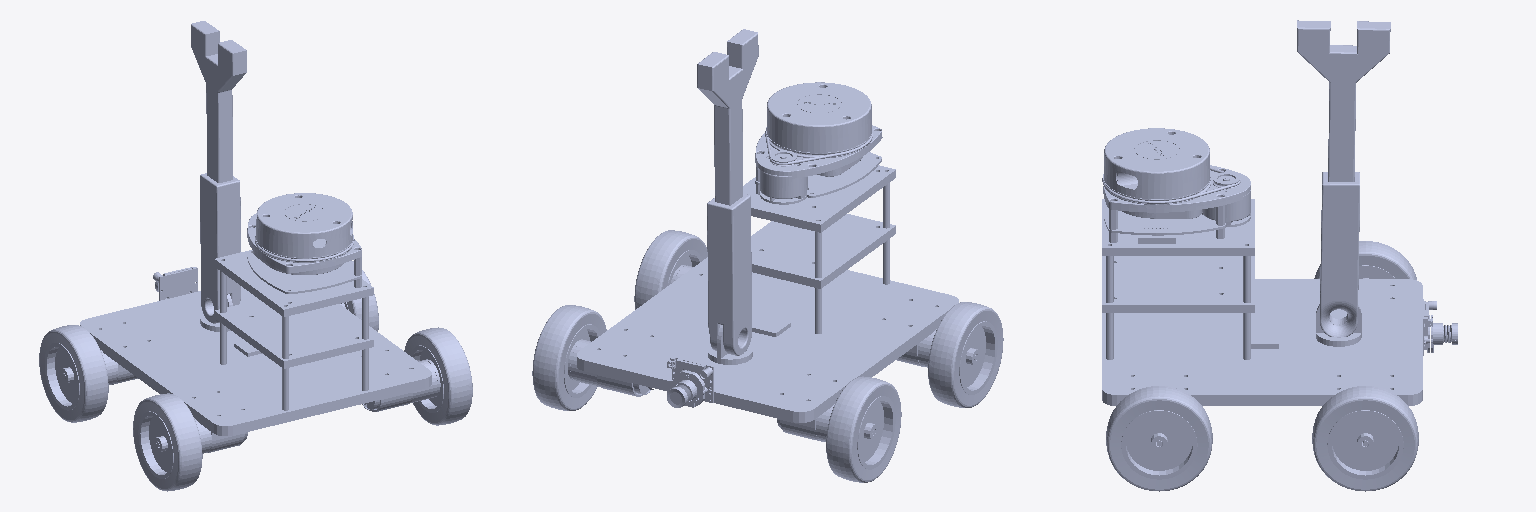
robot.urdf — xe_4:
<?xml version="1.0" encoding="utf-8"?>
<robot name="xe_4">
  <link name="base_link">
    <inertial>
      <origin xyz="0.0614732787260263 -0.163285290172582 0.139749667568583" rpy="0 0 0" />
      <mass value="0.525276609713374" />
      <inertia ixx="0.00118889424009473" ixy="-4.66163349173542E-07" ixz="-3.87633750168312E-10"
               iyy="0.000883705188266734" iyz="6.86269880388193E-09" izz="0.00205494454976402" />
    </inertial>
    <visual>
      <origin xyz="0 0 0" rpy="0 0 0" />
      <geometry>
        <mesh filename="package://xe_4/meshes/base_link.STL" />
      </geometry>
      <material name="">
        <color rgba="0.792156862745098 0.819607843137255 0.933333333333333 1" />
      </material>
    </visual>
    <collision>
      <origin xyz="0 0 0" rpy="0 0 0" />
      <geometry>
        <mesh filename="package://xe_4/meshes/base_link.STL" />
      </geometry>
    </collision>
  </link>

  <link name="front_right_link">
    <inertial>
      <origin xyz="1.38777878078145E-17 0.00800000000000001 1.38777878078145E-17" rpy="0 0 0" />
      <mass value="0.0537442846179065" />
      <inertia ixx="2.10387038973688E-05" ixy="3.5056171441999E-38" ixz="-1.15379320514335E-37"
               iyy="3.92583949923622E-05" iyz="3.33529490322889E-21" izz="2.10387038973688E-05" />
    </inertial>
    <visual>
      <origin xyz="0 0 0" rpy="0 0 0" />
      <geometry>
        <mesh filename="package://xe_4/meshes/front_right_link.STL" />
      </geometry>
      <material name="">
        <color rgba="0.792156862745098 0.819607843137255 0.933333333333333 1" />
      </material>
    </visual>
    <collision>
      <origin xyz="0 0 0" rpy="0 0 0" />
      <geometry>
        <mesh filename="package://xe_4/meshes/front_right_link.STL" />
      </geometry>
    </collision>
  </link>
  <joint name="front_right_joint" type="continuous">
    <origin xyz="0.18174 -0.086658 0.11603" rpy="0 0 1.5708" />
    <parent link="base_link" />
    <child link="front_right_link" />
    <axis xyz="0 1 0" />
  </joint>

  <link name="back_right_link">
    <inertial>
      <origin xyz="0 0.00799999999999998 1.38777878078145E-17" rpy="0 0 0" />
      <mass value="0.0537442846179064" />
      <inertia ixx="2.10387038973688E-05" ixy="3.50561714419991E-38" ixz="-1.15379320514336E-37"
               iyy="3.92583949923622E-05" iyz="2.91266075558846E-21" izz="2.10387038973688E-05" />
    </inertial>
    <visual>
      <origin xyz="0 0 0" rpy="0 0 0" />
      <geometry>
        <mesh filename="package://xe_4/meshes/back_right_link .STL" />
      </geometry>
      <material name="">
        <color rgba="0.792156862745098 0.819607843137255 0.933333333333333 1" />
      </material>
    </visual>
    <collision>
      <origin xyz="0 0 0" rpy="0 0 0" />
      <geometry>
        <mesh filename="package://xe_4/meshes/back_right_link .STL" />
      </geometry>
    </collision>
  </link>
  <joint name="back_right_joint" type="continuous">
    <origin xyz="0.18174 -0.22166 0.11603" rpy="0 0 1.5708" />
    <parent link="base_link" />
    <child link="back_right_link" />
    <axis xyz="0 1 0" />
  </joint>

  <link name="front_left_link">
    <inertial>
      <origin xyz="2.77555756156289E-17 -0.008 0" rpy="0 0 0" />
      <mass value="0.0537442846179065" />
      <inertia ixx="2.10387038973688E-05" ixy="3.5056171441999E-38" ixz="-1.15379320514335E-37"
               iyy="3.92583949923622E-05" iyz="3.05383291346418E-21" izz="2.10387038973688E-05" />
    </inertial>
    <visual>
      <origin xyz="0 0 0" rpy="0 0 0" />
      <geometry>
        <mesh filename="package://xe_4/meshes/front_left_link.STL" />
      </geometry>
      <material name="">
        <color rgba="0.792156862745098 0.819607843137255 0.933333333333333 1" />
      </material>
    </visual>
    <collision>
      <origin xyz="0 0 0" rpy="0 0 0" />
      <geometry>
        <mesh filename="package://xe_4/meshes/front_left_link.STL" />
      </geometry>
    </collision>
  </link>
  <joint name="front_left_joint" type="continuous">
    <origin xyz="-0.058665 -0.086658 0.11603" rpy="0 0 1.5708" />
    <parent link="base_link" />
    <child link="front_left_link" />
    <axis xyz="0 1 0" />
  </joint>

  <link name="back_left_link">
    <inertial>
      <origin xyz="-2.77555756156289E-17 -0.008 2.77555756156289E-17" rpy="0 0 0" />
      <mass value="0.0537442846179065" />
      <inertia ixx="2.10387038973689E-05" ixy="-1.55749413174486E-22" ixz="-1.0900813371481E-22"
               iyy="3.92583949923622E-05" iyz="2.4689561138458E-21" izz="2.10387038973689E-05" />
    </inertial>
    <visual>
      <origin xyz="0 0 0" rpy="0 0 0" />
      <geometry>
        <mesh filename="package://xe_4/meshes/back_left_link.STL" />
      </geometry>
      <material name="">
        <color rgba="0.792156862745098 0.819607843137255 0.933333333333333 1" />
      </material>
    </visual>
    <collision>
      <origin xyz="0 0 0" rpy="0 0 0" />
      <geometry>
        <mesh filename="package://xe_4/meshes/back_left_link.STL" />
      </geometry>
    </collision>
  </link>
  <joint name="back_left_joint" type="continuous">
    <origin xyz="-0.058665 -0.22166 0.11603" rpy="0 0 1.5708" />
    <parent link="base_link" />
    <child link="back_left_link" />
    <axis xyz="0 1 0" />
  </joint>

  <link name="link1_link">
    <inertial>
      <origin xyz="0.0420436004686703 1.47276565942711E-09 -0.00126903695496102" rpy="0 0 0" />
      <mass value="0.0367975504819107" />
      <inertia ixx="3.79192552675337E-06" ixy="1.3618516728618E-12" ixz="3.55472653343413E-07"
               iyy="3.44370026892355E-05" iyz="2.67902459355996E-13" izz="3.52474565119633E-05" />
    </inertial>
    <visual>
      <origin xyz="0 0 0" rpy="0 0 0" />
      <geometry>
        <mesh filename="package://xe_4/meshes/link1_link.STL" />
      </geometry>
      <material name="">
        <color rgba="0.792156862745098 0.819607843137255 0.933333333333333 1" />
      </material>
    </visual>
    <collision>
      <origin xyz="0 0 0" rpy="0 0 0" />
      <geometry>
        <mesh filename="package://xe_4/meshes/link1_link.STL" />
      </geometry>
    </collision>
  </link>
  <joint name="link1_joint" type="revolute">
    <origin xyz="0.060035 -0.10416 0.15203" rpy="-1.5708 -1.555 1.5708" />
    <parent link="base_link" />
    <child link="link1_link" />
    <axis xyz="0 0 1" />
    <limit lower="-1.57" upper="1.3" effort="10" velocity="1.0" />
  </joint>

  <link name="link2_link">
    <inertial>
      <origin xyz="3.44931007367766E-09 -1.6680382700085E-09 0.125171170915148" rpy="0 0 0" />
      <mass value="0.0371241111703062" />
      <inertia ixx="4.45845445622506E-05" ixy="-1.11743696058705E-11" ixz="-2.88407238070524E-12"
               iyy="5.03537247762182E-05" iyz="1.76957128561628E-12" izz="6.72867103735116E-06" />
    </inertial>
    <visual>
      <origin xyz="0 0 0" rpy="0 0 0" />
      <geometry>
        <mesh filename="package://xe_4/meshes/link2_link.STL" />
      </geometry>
      <material name="">
        <color rgba="0.792156862745098 0.819607843137255 0.933333333333333 1" />
      </material>
    </visual>
    <collision>
      <origin xyz="0 0 0" rpy="0 0 0" />
      <geometry>
        <mesh filename="package://xe_4/meshes/link2_link.STL" />
      </geometry>
    </collision>
  </link>
  <joint name="link2_joint" type="prismatic">
    <origin xyz="0.04 0 -0.0015" rpy="1.5708 0 1.5708" />
    <parent link="link1_link" />
    <child link="link2_link" />
    <axis xyz="0 0 1" />
    <limit lower="-0.06" upper="0" effort="10" velocity="0.1" />
  </joint>

  <link name="imu_link">
    <inertial>
      <origin xyz="0.000525532368486153 -0.00277473645934152 0.00149999999999945" rpy="0 0 0" />
      <mass value="0.0018" />
      <inertia ixx="1.3635E-07" ixy="-5.61629582932362E-22" ixz="-2.40171327104817E-22"
               iyy="6.13500000000001E-08" iyz="-3.4609579333938E-24" izz="1.95E-07" />
    </inertial>
    <visual>
      <origin xyz="0 0 0" rpy="0 0 0" />
      <geometry>
        <mesh filename="package://xe_4/meshes/imu_link.STL" />
      </geometry>
      <material name="">
        <color rgba="0.792156862745098 0.819607843137255 0.933333333333333 1" />
      </material>
    </visual>
    <collision>
      <origin xyz="0 0 0" rpy="0 0 0" />
      <geometry>
        <mesh filename="package://xe_4/meshes/imu_link.STL" />
      </geometry>
    </collision>
  </link>
  <gazebo reference="imu_link">
    <sensor name="imu_sensor" type="imu">
      <always_on>true</always_on>
      <update_rate>100</update_rate>
      <visualize>true</visualize>
      <plugin filename="libgazebo_ros_imu_sensor.so" name="imu_plugin">
        <topicName>imu</topicName>
        <bodyName>imu_link</bodyName>
        <updateRateHZ>10.0</updateRateHZ>
        <gaussianNoise>0.0</gaussianNoise>
        <xyzOffset>0 0 0</xyzOffset>
        <rpyOffset>0 0 0</rpyOffset>
        <frameName>imu_link</frameName>
      </plugin>
    </sensor>
  </gazebo>
  <joint name="imu_joint" type="fixed">
    <origin xyz="0.061535 -0.15415 0.13703" rpy="0 0 1.5708" />
    <parent link="base_link" />
    <child link="imu_link" />
    <axis xyz="0 0 0" />
  </joint>

  <link name="camera_link">
    <inertial>
      <origin xyz="0.00644106594710503 0.000553262223239606 -0.0012676232895959" rpy="0 0 0" />
      <mass value="0.00569321375067929" />
      <inertia ixx="3.73318194488939E-07" ixy="-5.53630936551191E-09" ixz="-9.1261226922927E-09"
               iyy="2.79136234351471E-07" iyz="-9.11163915542091E-09" izz="2.90580696548858E-07" />
    </inertial>
    <visual>
      <origin xyz="0 0 0" rpy="0 0 0" />
      <geometry>
        <mesh filename="package://xe_4/meshes/camera_link.STL" />
      </geometry>
      <material name="">
        <color rgba="0.792156862745098 0.819607843137255 0.933333333333333 1" />
      </material>
    </visual>
    <collision>
      <origin xyz="0 0 0" rpy="0 0 0" />
      <geometry>
        <mesh filename="package://xe_4/meshes/camera_link.STL" />
      </geometry>
    </collision>
  </link>
  <gazebo reference="camera_link">
    <sensor type="camera" name="camera1">
      <update_rate>30.0</update_rate>
      <camera name="head">
        <horizontal_fov>1.3962634</horizontal_fov>
        <image>
          <width>800</width>
          <height>800</height>
          <format>R8G8B8</format>
        </image>
        <clip>
          <near>0.02</near>
          <far>300</far>
        </clip>
      </camera>
      <plugin name="camera_controller" filename="libgazebo_ros_camera.so">
        <alwaysOn>true</alwaysOn>
        <updateRate>0.0</updateRate>
        <cameraName>xe_4/camera1</cameraName>
        <imageTopicName>image_raw</imageTopicName>
        <cameraInfoTopicName>camera_info</cameraInfoTopicName>
        <frameName>camera_link</frameName>
      </plugin>
    </sensor>
  </gazebo>
  <joint name="camera_joint" type="prismatic">
    <origin xyz="0.0587 -0.048158 0.14085" rpy="0 0 1.5708" />
    <parent link="base_link" />
    <child link="camera_link" />
    <axis xyz="0 1 0" />
    <limit lower="0" upper="0" effort="0" velocity="0" />
  </joint>

  <link name="lidar_Link">
    <inertial>
      <origin xyz="0.0133918743875461 -0.000989517063655694 -0.028990920691192" rpy="0 0 0" />
      <mass value="0.0664008074578348" />
      <inertia ixx="1.88360700674189E-05" ixy="1.15047696543767E-08" ixz="-4.26462847749789E-07"
               iyy="2.33873283955793E-05" iyz="1.94167984279753E-08" izz="4.00221561461094E-05" />
    </inertial>
    <visual>
      <origin xyz="0 0 0" rpy="0 0 0" />
      <geometry>
        <mesh filename="package://xe_4/meshes/lidar_Link.STL" />
      </geometry>
      <material name="">
        <color rgba="0.792156862745098 0.819607843137255 0.933333333333333 1" />
      </material>
    </visual>
    <collision>
      <origin xyz="0 0 0" rpy="0 0 0" />
      <geometry>
        <mesh filename="package://xe_4/meshes/lidar_Link.STL" />
      </geometry>
    </collision>
  </link>
  <gazebo reference="lidar_Link">
    <sensor type="ray" name="lidar_sensor">
      <pose>0 0 0 0 0 0</pose>
      <visualize>true</visualize>
      <update_rate>30</update_rate>
      <ray>
        <scan>
          <horizontal>
            <samples>720</samples>
            <resolution>1</resolution>
            <min_angle>-3.1415</min_angle>
            <max_angle>3.1415</max_angle>
          </horizontal>
        </scan>
        <range>
          <min>0.2</min>
          <max>30.0</max>
          <resolution>0.01</resolution>
        </range>
      </ray>
      <plugin name="gazebo_ros_laser" filename="libgazebo_ros_laser.so">
        <topicName>/scan</topicName>
        <frameName>lidar_Link</frameName>
      </plugin>
    </sensor>
  </gazebo>
  <joint name="lidar_joint" type="fixed">
    <origin xyz="0.062159 -0.22315 0.27253" rpy="0 0 1.5708" />
    <parent link="base_link" />
    <child link="lidar_Link" />
    <axis xyz="0 0 0" />
  </joint>


  <gazebo>

    <plugin name="skid_steer_drive_controller" filename="libgazebo_ros_skid_steer_drive.so">
      <leftFrontJoint>front_left_joint</leftFrontJoint>
      <rightFrontJoint>front_right_joint</rightFrontJoint>
      <leftRearJoint>back_left_joint</leftRearJoint>
      <rightRearJoint>back_right_joint</rightRearJoint>
      <wheelSeparation>0.173316</wheelSeparation>
      <wheelDiameter>0.08</wheelDiameter> 
      <torque>20</torque> 
      <commandTopic>cmd_vel</commandTopic>
      <odometryTopic>odom</odometryTopic>
      <odometryFrame>odom</odometryFrame>
      <robotBaseFrame>base_link</robotBaseFrame>
      <publishWheelTF>true</publishWheelTF>
      <publishWheelJointState>true</publishWheelJointState>
      <updateRate>100.0</updateRate>
      <publishOdomTF>true</publishOdomTF>

      <!-- cảnh báo -->
      <covariance_x>0.00001</covariance_x>
      <covariance_y>0.00001</covariance_y>
      <covariance_yaw>0.001</covariance_yaw>
    </plugin>

   
    <plugin name="arm_controller" filename="libgazebo_ros_joint_pose_trajectory.so">
      <robotNamespace>/xe_4</robotNamespace>
      <updateRate>100.0</updateRate>
      <topicName>arm_controller/command</topicName>
      <jointName>link1_joint, link2_joint</jointName>
    </plugin>
  </gazebo>
</robot>

--- Facts derived from the render (not from the file) ---
3 views of the same robot in one strip: view 1: azimuth 30°, elevation 25°; view 2: azimuth 150°, elevation 25°; view 3: azimuth 270°, elevation 25° (orthographic).
Model xe_4 with 10 links and 9 joints (1 revolute, 4 continuous, 2 prismatic, 2 fixed), rooted at base_link, posed every joint at zero.
Links seen in each view (by area): view 1: base_link, lidar_Link, front_left_link, back_left_link, link2_link, link1_link, back_right_link, camera_link, front_right_link; view 2: base_link, lidar_Link, link1_link, front_left_link, back_left_link, link2_link, front_right_link, back_right_link, camera_link, imu_link; view 3: base_link, lidar_Link, back_right_link, front_right_link, link2_link, link1_link, front_left_link, camera_link, imu_link.
Link boxes in pixels (x1,y1,x2,y2): base_link: (63,251,440,453); lidar_Link: (247,193,361,293); front_left_link: (39,325,108,422); back_left_link: (133,393,202,491); link2_link: (191,21,246,182); link1_link: (200,173,240,323); back_right_link: (404,327,472,425); camera_link: (153,267,197,300); front_right_link: (344,261,378,331); base_link: (568,165,977,441); lidar_Link: (755,82,882,204); link1_link: (707,194,751,355); front_left_link: (826,376,901,482); back_left_link: (928,302,1003,407); link2_link: (697,29,758,205); front_right_link: (532,305,606,410); back_right_link: (634,230,707,309); camera_link: (667,356,713,407); imu_link: (752,313,790,336); base_link: (1102,199,1422,446); lidar_Link: (1102,128,1250,242); back_right_link: (1106,386,1212,491); front_right_link: (1312,386,1418,491); link2_link: (1297,20,1390,181); link1_link: (1320,172,1359,337); front_left_link: (1314,241,1416,279); camera_link: (1423,299,1457,355); imu_link: (1251,325,1278,348).
Bounding box of the posed robot: 0.2444 × 0.233 × 0.2822 m (x, y, z).
Meshes: 10 distinct files referenced, 10 mesh visuals loaded (10 binary STL).
